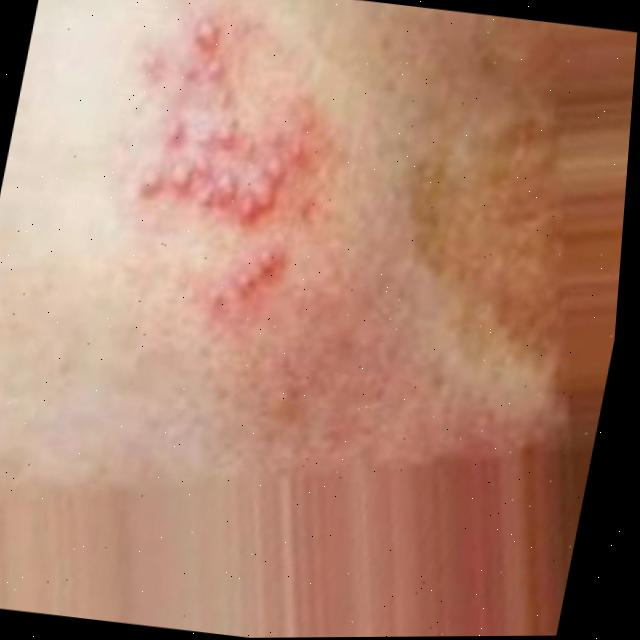Shingles: (95, 1, 346, 316)
